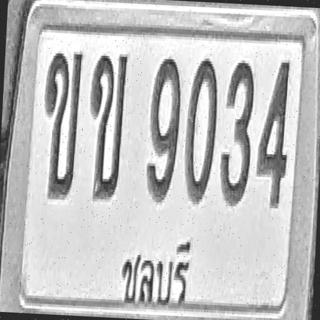A02: (40, 49, 83, 199), (86, 50, 128, 200)
N00: (183, 55, 220, 205)
N03: (218, 58, 256, 206)
N04: (255, 58, 292, 208)
N09: (146, 54, 183, 202)
P13: (114, 226, 198, 314)
